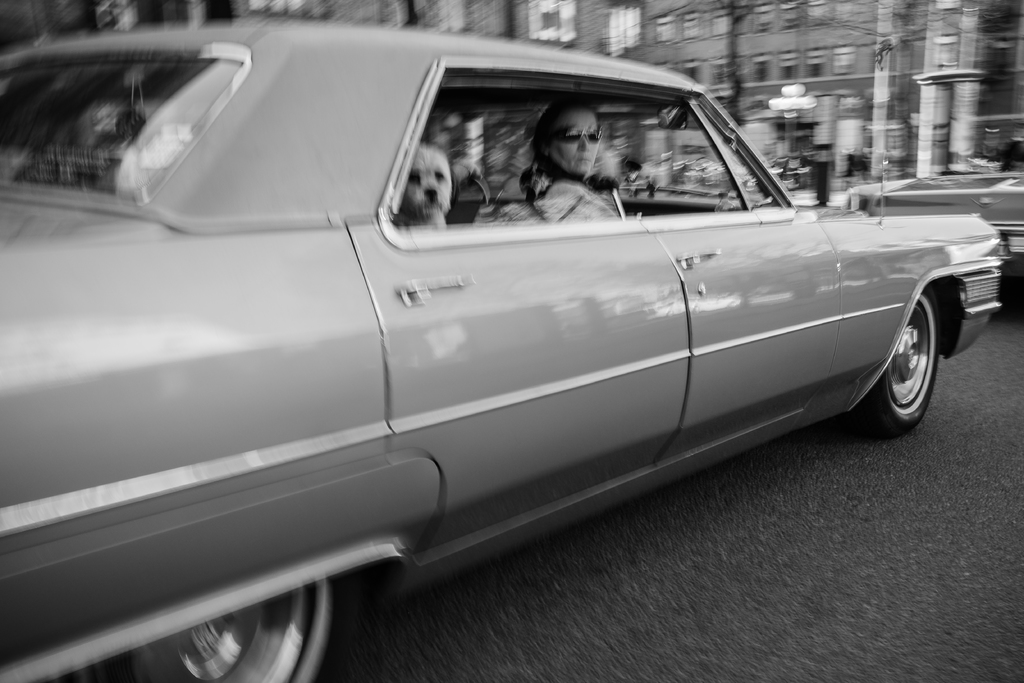cars: (1, 5, 1007, 682)
